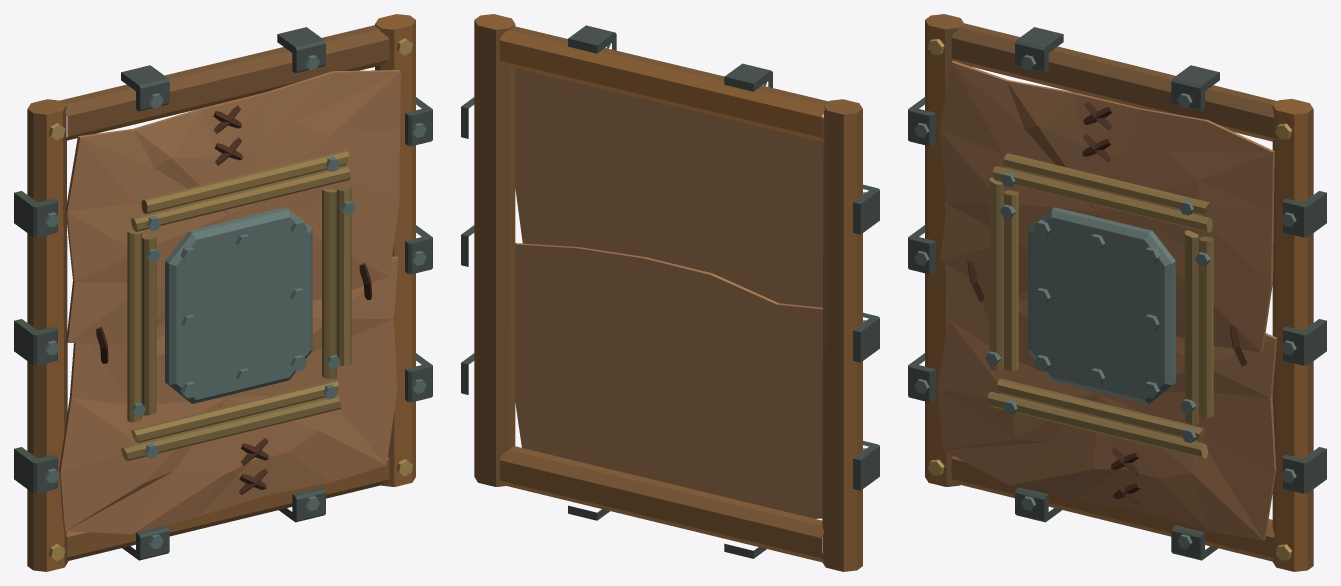
Rendered from wall-breach-repair-insert-13ce6b.glb.
3 views of the same model, side by side, from view 1: azimuth 30°, elevation 25°; view 2: azimuth 150°, elevation 25°; view 3: azimuth 330°, elevation 25° (orthographic).
Parts seen in each view (by area): view 1: patch-mesh, frame, fasteners-mesh; view 2: patch-mesh, frame, fasteners-mesh; view 3: patch-mesh, frame, fasteners-mesh.
Part boxes in pixels (left/top/right/bottom): patch-mesh: left=59, top=70, right=400, bottom=534; frame: left=27, top=14, right=415, bottom=571; fasteners-mesh: left=14, top=27, right=432, bottom=560; patch-mesh: left=515, top=68, right=823, bottom=518; frame: left=474, top=14, right=862, bottom=571; fasteners-mesh: left=461, top=25, right=879, bottom=558; patch-mesh: left=937, top=60, right=1276, bottom=540; frame: left=925, top=14, right=1313, bottom=571; fasteners-mesh: left=908, top=27, right=1326, bottom=560.
Size of the model in its own units: 1.03 by 1.17 by 0.1423.
